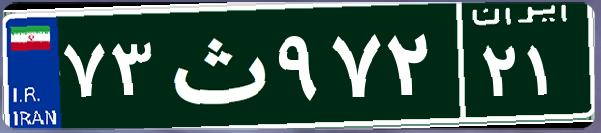1: (525, 38, 570, 115)
2: (385, 28, 445, 110), (475, 38, 525, 113)
3: (110, 28, 158, 105)
7: (330, 28, 385, 110), (57, 26, 110, 107)
9: (273, 28, 330, 110)
ث: (158, 15, 273, 115)
